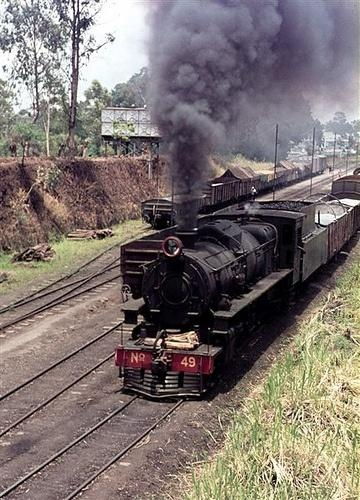train: (116, 167, 360, 400), (141, 153, 333, 229)
